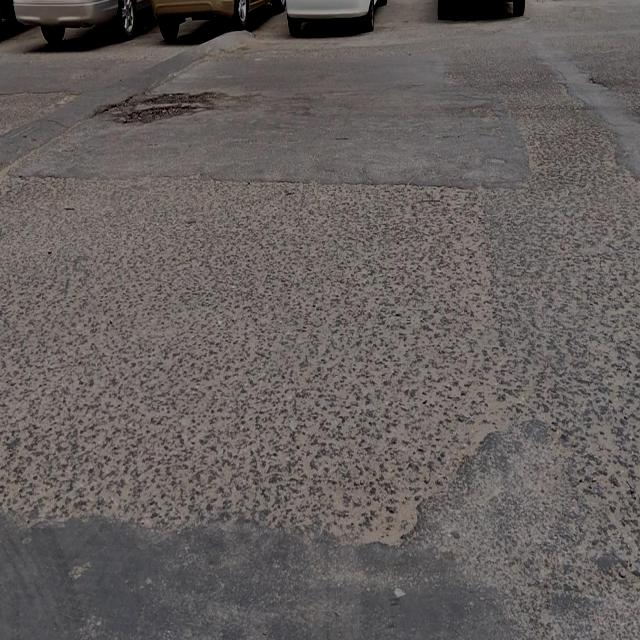Potholes: (107, 89, 217, 129)
